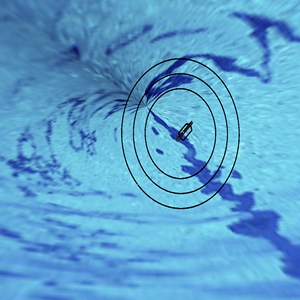circle: (113, 45, 248, 219)
submarine: (170, 111, 197, 149)
